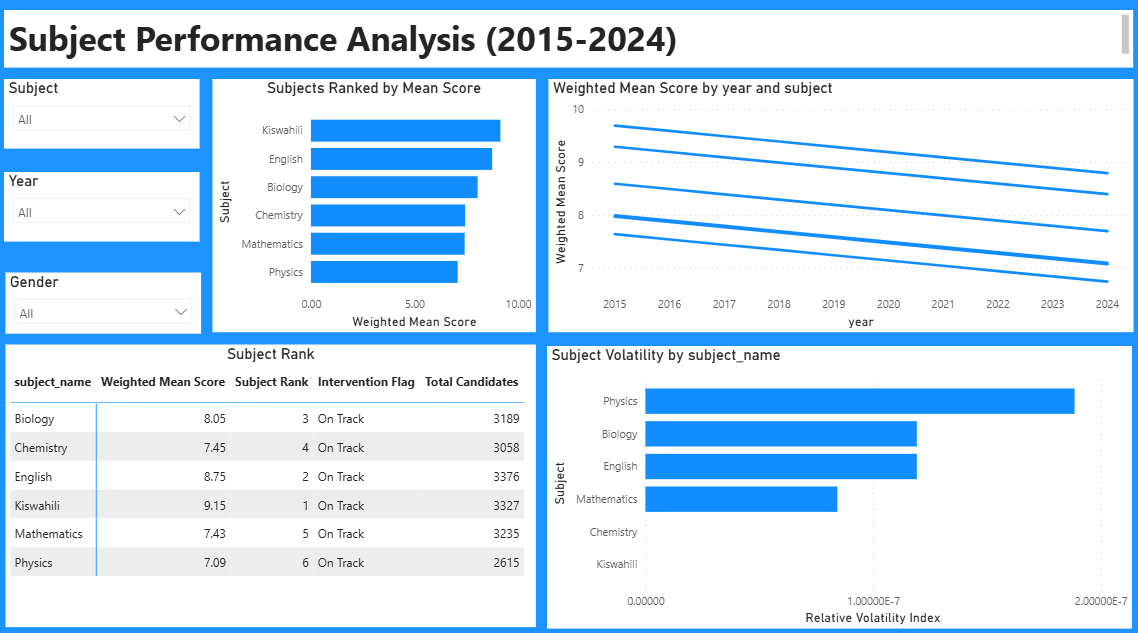

This screenshot's page, from the dashboard's own definition file:
{"tool":"powerbi","page":{"name":"Subject Performance ","canvas":[1280,720],"ordinal":1},"visuals":[{"type":"textbox","box":[9.4,13.2,1254.8,64.3],"z":0},{"type":"slicer","title":"Year","fields":{"Values":["dim_year.year"]},"box":[9.4,192.8,217.3,77.5],"z":1000},{"type":"slicer","title":"Gender","fields":{"Values":["dim_gender.gender"]},"box":[11.3,304.3,217.3,68],"z":2000},{"type":"clusteredBarChart","title":"Subjects Ranked by Mean Score","fields":{"Category":["dim_subject.subject_name"],"Y":["dim_gender.Weighted Mean Score"]},"box":[241.9,90.7,359.1,281.6],"z":3000},{"type":"pivotTable","title":"Subject Rank","fields":{"Rows":["dim_subject.subject_name"],"Values":["dim_gender.Weighted Mean Score","dim_gender.Subject Rank","dim_date.Intervention Flag","dim_gender.Total Candidates"]},"box":[11.3,385.5,589.6,313.7],"z":4000},{"type":"lineChart","title":"Weighted Mean Score by year and subject","fields":{"Category":["dim_year.year"],"Y":["dim_gender.Weighted Mean Score"],"Series":["dim_subject.subject_name"]},"box":[614.2,90.7,650.1,281.6],"z":5000},{"type":"slicer","title":"Subject","fields":{"Values":["dim_subject.subject_name"]},"box":[9.4,90.7,217.3,77.5],"z":6000},{"type":"clusteredBarChart","fields":{"Category":["dim_subject.subject_name"],"Y":["dim_date.Subject Volatility"]},"box":[614,386,650,314],"z":7000}]}

Visuals, with their boxes in screenshot pixels (x1, y1, x2, y2), scaled from the page's 1280x720 canvas onto the 1138x633 screenshot:
textbox: <box>8,12,1124,68</box>
"Year" slicer: <box>8,170,202,238</box>
"Gender" slicer: <box>10,268,203,327</box>
"Subjects Ranked by Mean Score" clusteredBarChart: <box>215,80,534,327</box>
"Subject Rank" pivotTable: <box>10,339,534,615</box>
"Weighted Mean Score by year and subject" lineChart: <box>546,80,1124,327</box>
"Subject" slicer: <box>8,80,202,148</box>
clusteredBarChart - dim_subject.subject_name x dim_date.Subject Volatility: <box>546,339,1124,615</box>
